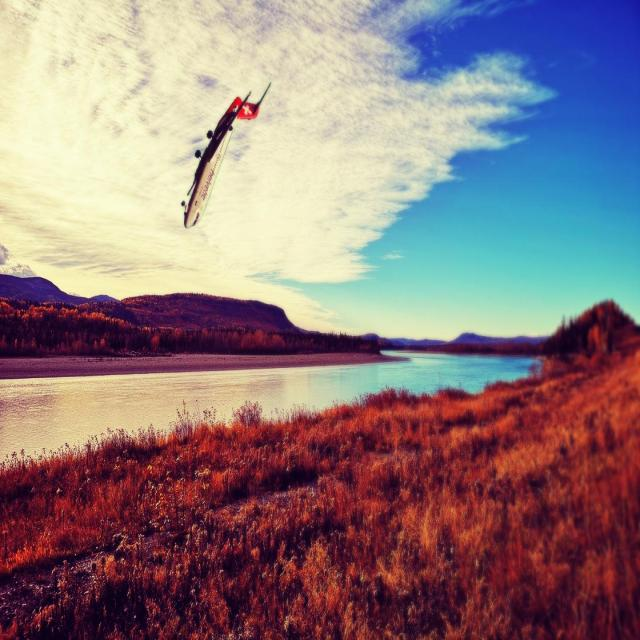airplane: (181, 80, 271, 228)
